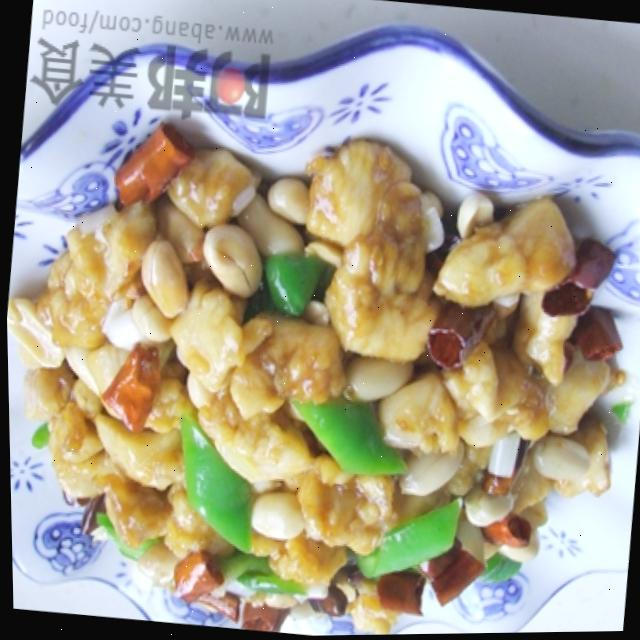鸡肉料理 含炸鸡: (2, 86, 640, 640)
